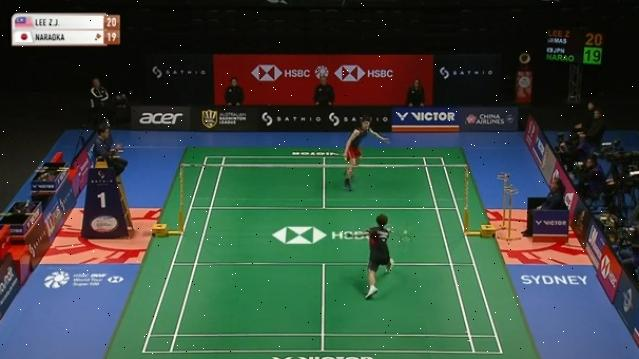Shuttlecock: (402, 224, 412, 236)
